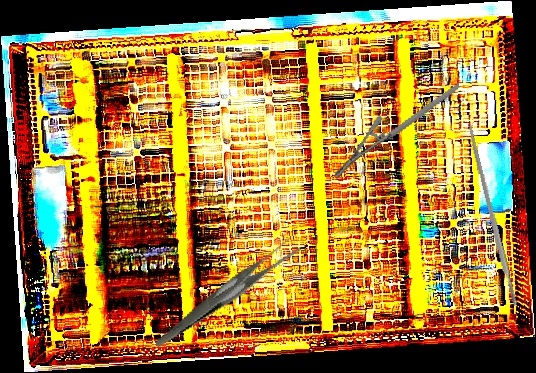Dressing Forceps: (137, 234, 316, 348)
Needle Holder: (319, 83, 476, 179)
Scalpel Handle: (465, 123, 519, 309)
